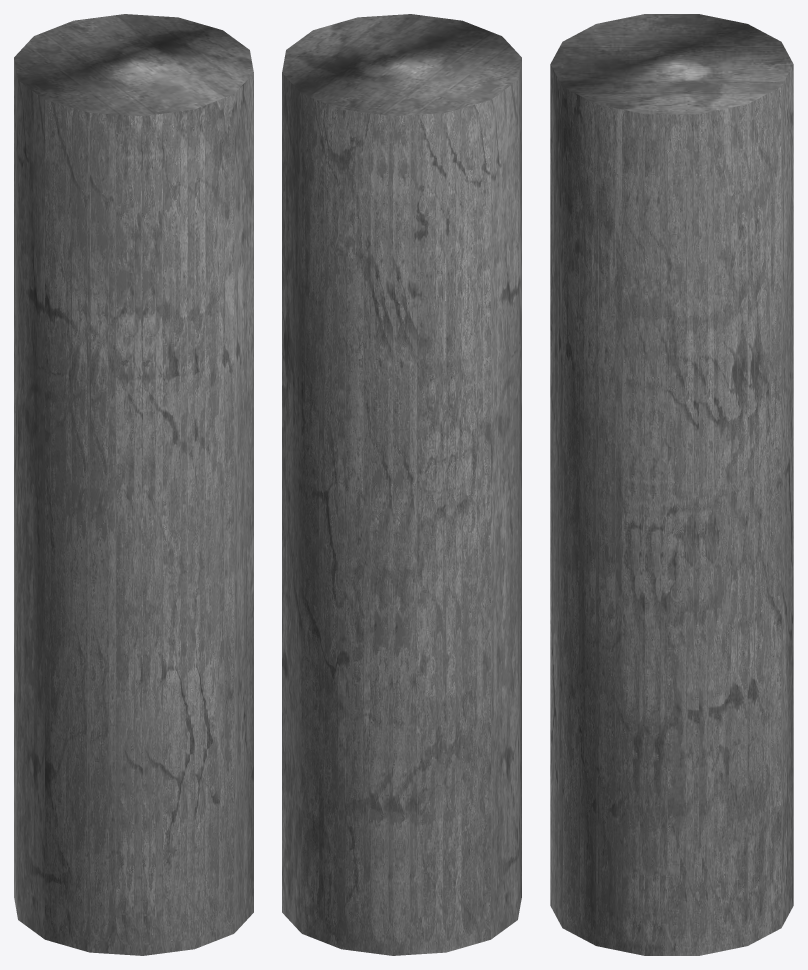
The model's file is Pilar.fbx.
3 views of the same model, side by side, from view 1: azimuth 30°, elevation 25°; view 2: azimuth 150°, elevation 25°; view 3: azimuth 270°, elevation 25° (orthographic).
Parts seen in each view (by area): view 1: Cylinder.022; view 2: Cylinder.022; view 3: Cylinder.022.
Boxes of the visible parts, x1,y1,x2,y2 form: Cylinder.022: (14, 14, 253, 955); Cylinder.022: (282, 14, 521, 955); Cylinder.022: (550, 14, 793, 955).
Size of the model in its own units: 176 by 688 by 180.
